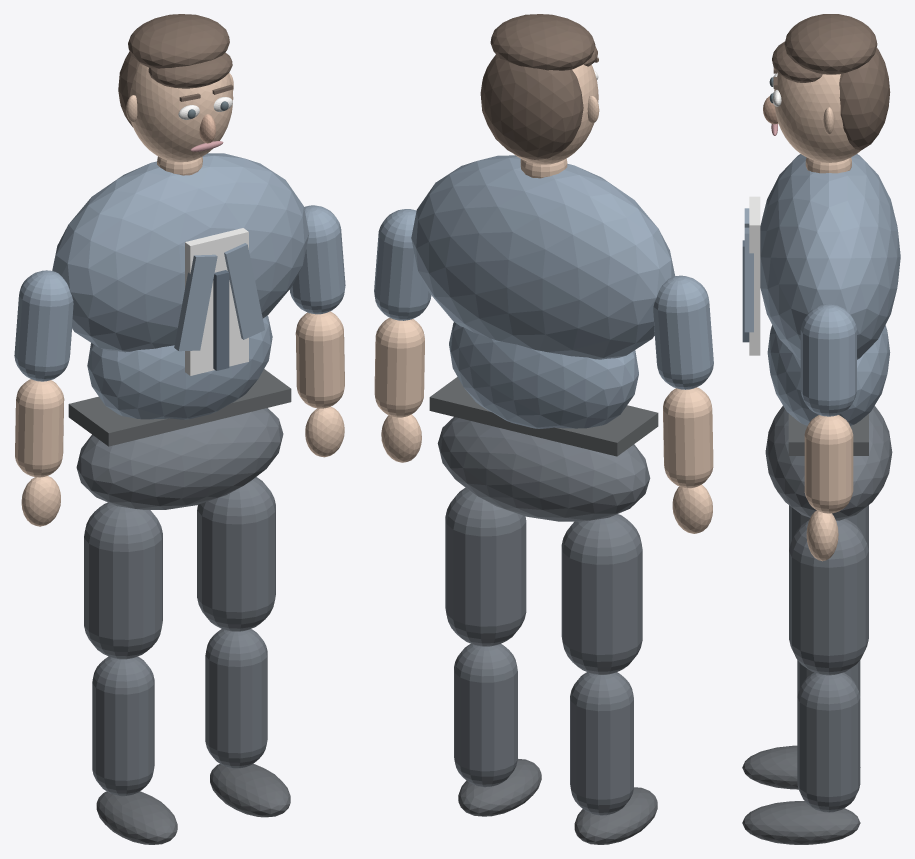
Rendered from guest_male.glb.
3 renders of one model, left to right at view 1: azimuth 30°, elevation 25°; view 2: azimuth 150°, elevation 25°; view 3: azimuth 270°, elevation 25°, orthographic. The views are drawn at different scales.
Parts seen in each view (by area): view 1: Chest, Hips, LeftUpLeg, RightUpLeg, Spine, RightLeg, LeftLeg, Head, LeftArm, Belt, HairTop, LeftForeArm (+12 smaller); view 2: Chest, Hips, Spine, LeftUpLeg, RightUpLeg, RightLeg, LeftLeg, HairBack, LeftArm, Belt, HairTop, LeftForeArm (+7 smaller); view 3: Chest, RightUpLeg, RightLeg, RightArm, Hips, Head, Spine, RightForeArm, HairTop, RightFoot, HairBack, LeftFoot (+9 smaller).
Part boxes in pixels (box(x1,y1,x2,y2)): Chest: box(52, 153, 309, 352); Hips: box(76, 408, 283, 509); LeftUpLeg: box(84, 502, 162, 659); RightUpLeg: box(197, 477, 275, 631); Spine: box(87, 315, 272, 419); RightLeg: box(205, 629, 267, 768); LeftLeg: box(92, 656, 154, 796); Head: box(130, 63, 233, 162); LeftArm: box(14, 270, 73, 381); Belt: box(68, 369, 291, 446); HairTop: box(128, 14, 229, 68); LeftForeArm: box(15, 379, 64, 477); Chest: box(411, 155, 674, 359); Hips: box(437, 417, 650, 521); Spine: box(449, 322, 638, 428); LeftUpLeg: box(561, 514, 642, 674); RightUpLeg: box(445, 487, 526, 646); RightLeg: box(454, 643, 517, 787); LeftLeg: box(570, 672, 633, 815); HairBack: box(480, 55, 583, 159); LeftArm: box(653, 275, 713, 389); Belt: box(429, 377, 658, 456); HairTop: box(490, 14, 595, 70); LeftForeArm: box(663, 387, 713, 488); Chest: box(760, 154, 900, 359); RightUpLeg: box(789, 518, 868, 675); RightLeg: box(797, 672, 860, 812); RightArm: box(800, 304, 856, 416); Hips: box(765, 406, 892, 520); Head: box(774, 73, 861, 162); Spine: box(767, 325, 890, 425); RightForeArm: box(804, 415, 853, 513); HairTop: box(784, 14, 877, 74); RightFoot: box(742, 801, 860, 844); HairBack: box(839, 47, 890, 150); LeftFoot: box(742, 745, 860, 789).
Bounding box in the file's own units: 0.8872 × 2.06 × 0.375.
